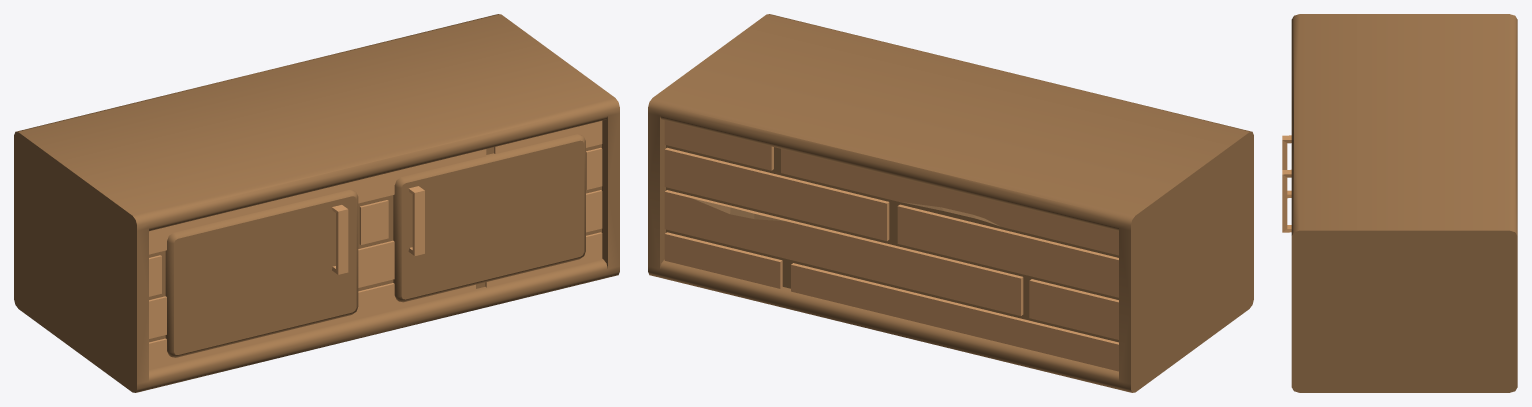
Rendered from cc0-cabinet-doors-lod0.glb.
3 views of the same model, side by side, from view 1: azimuth 30°, elevation 25°; view 2: azimuth 150°, elevation 25°; view 3: azimuth 270°, elevation 25° (orthographic). The views are drawn at different scales.
Parts seen in each view (by area): view 1: part_0; view 2: part_0; view 3: part_0.
Boxes of the visible parts, x1,y1,x2,y2 form: part_0: (14,14,619,392); part_0: (648,14,1253,392); part_0: (1282,14,1517,392).
Size of the model in its own units: 4 by 1.4 by 1.84.
1 material, 1 textured.
